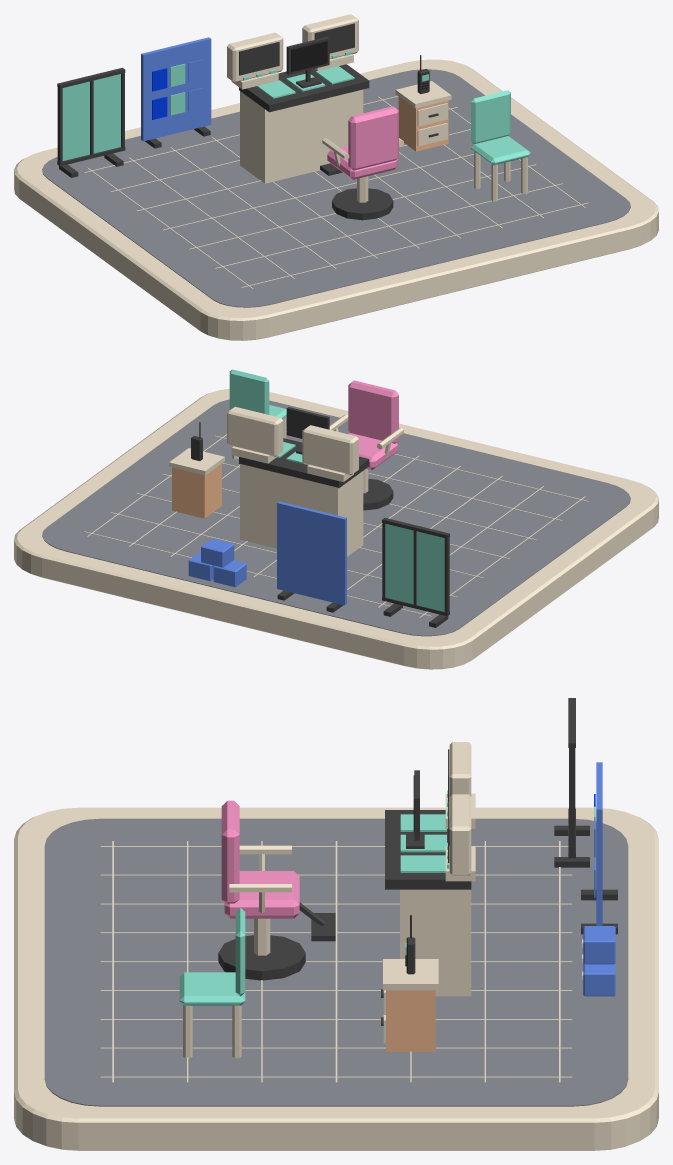
The picture shows the model from 3 angles, top to bottom: view 1: azimuth 30°, elevation 25°; view 2: azimuth 150°, elevation 25°; view 3: azimuth 270°, elevation 25°; orthographic projection. The views are drawn at different scales.
Parts seen in each view (by area): view 1: COM-02 Floor Surface, COM-01 Rounded Base Direct, Console, Panel.001, Back, Panel, Forward blue glazing, Forward blue glazing.001, Backrest, Frame, Base, Housing (+10 smaller); view 2: COM-02 Floor Surface, COM-01 Rounded Base Direct, Panel.001, Console, Back, Housing, Housing.001, Body, Forward blue glazing.001, Forward blue glazing, Backrest, Panel (+8 smaller); view 3: COM-02 Floor Surface, COM-01 Rounded Base Direct, Console, Body, Panel, Base, Seat, Seat.001, Housing.001, Back, Top, Stacked case.002 (+12 smaller).
Part boxes in pixels (bbox=[...]): COM-02 Floor Surface: bbox=[42, 69, 630, 307]; COM-01 Rounded Base Direct: bbox=[14, 59, 658, 340]; Console: bbox=[240, 89, 363, 183]; Panel.001: bbox=[141, 37, 211, 141]; Back: bbox=[348, 106, 398, 170]; Panel: bbox=[239, 64, 369, 112]; Forward blue glazing: bbox=[62, 81, 89, 160]; Forward blue glazing.001: bbox=[93, 74, 120, 153]; Backrest: bbox=[471, 90, 510, 144]; Frame: bbox=[286, 37, 329, 88]; Base: bbox=[332, 188, 393, 220]; Housing: bbox=[227, 32, 283, 82]; COM-02 Floor Surface: bbox=[42, 399, 630, 636]; COM-01 Rounded Base Direct: bbox=[14, 388, 658, 669]; Panel.001: bbox=[277, 501, 346, 605]; Console: bbox=[240, 464, 363, 556]; Back: bbox=[348, 380, 398, 443]; Housing: bbox=[302, 425, 358, 475]; Housing.001: bbox=[227, 406, 283, 456]; Body: bbox=[172, 463, 221, 518]; Forward blue glazing.001: bbox=[385, 523, 413, 604]; Forward blue glazing: bbox=[416, 531, 444, 611]; Backrest: bbox=[229, 369, 269, 414]; Panel: bbox=[239, 438, 369, 488]; COM-02 Floor Surface: bbox=[44, 818, 628, 1106]; COM-01 Rounded Base Direct: bbox=[14, 807, 658, 1150]; Console: bbox=[400, 889, 471, 996]; Body: bbox=[386, 990, 435, 1051]; Panel: bbox=[385, 810, 471, 889]; Base: bbox=[218, 935, 305, 980]; Seat: bbox=[224, 871, 299, 918]; Seat.001: bbox=[179, 972, 245, 1005]; Housing.001: bbox=[449, 794, 471, 875]; Back: bbox=[221, 800, 239, 904]; Top: bbox=[383, 959, 438, 990]; Stacked case.002: bbox=[583, 926, 615, 964].
Bounding box in the file's own units: 6 × 1.88 × 5.2.
1 material, 1 textured.
